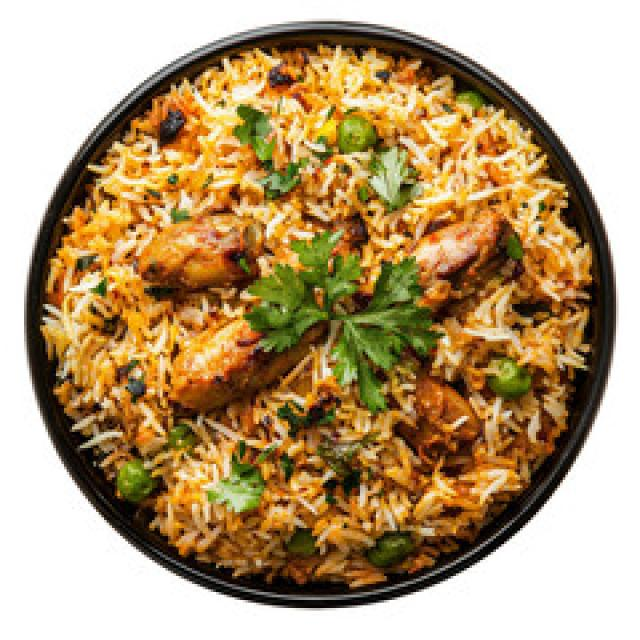BIRIYANI: (43, 46, 592, 582)
